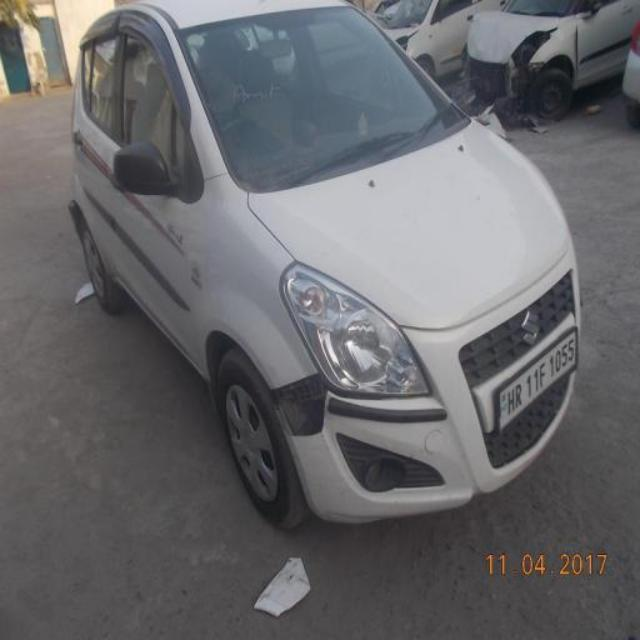dislocated part: (322, 385, 394, 405)
no part: (267, 369, 336, 438)
